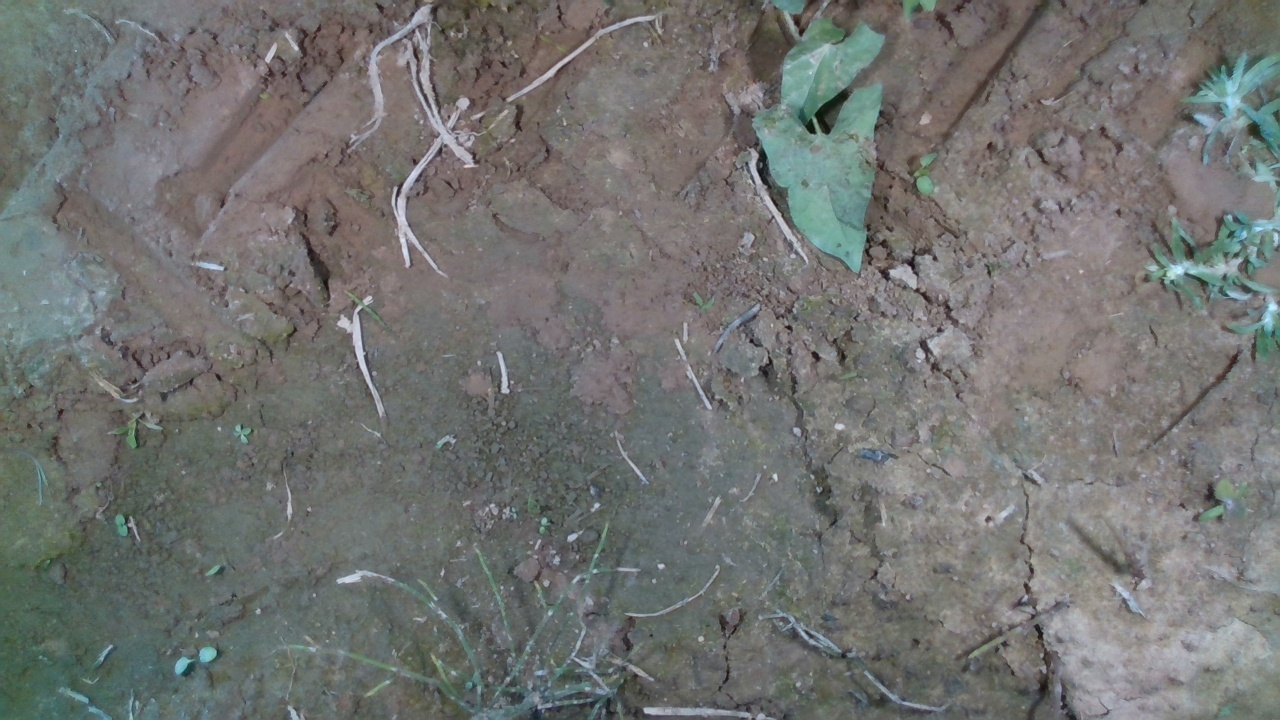weed: (172, 645, 218, 677), (914, 149, 939, 199), (231, 422, 252, 445), (114, 513, 128, 537)
